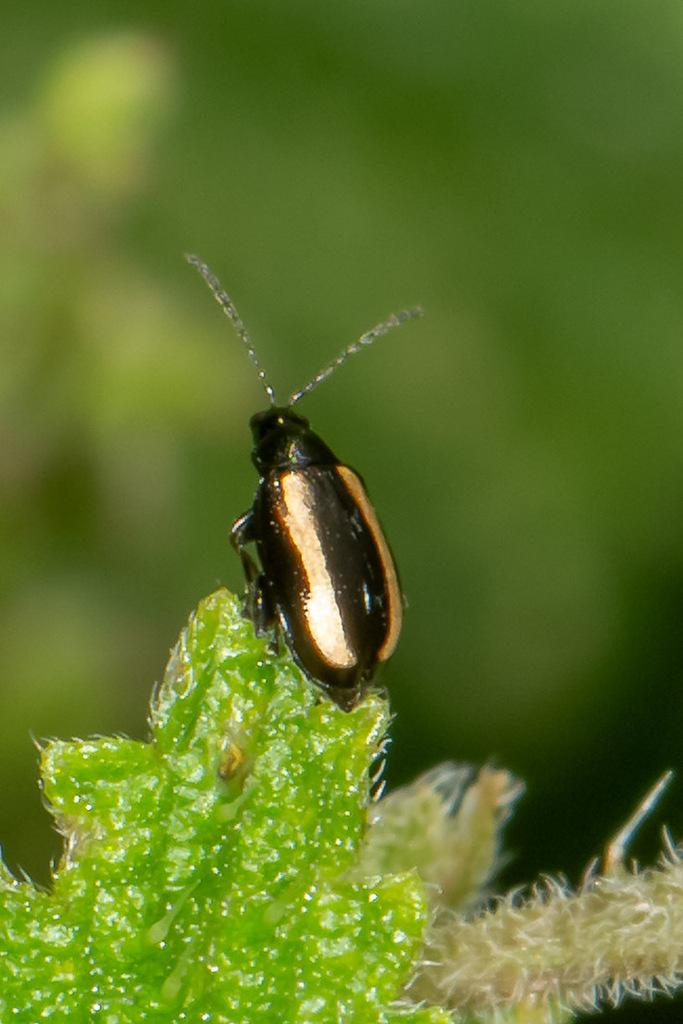flea_beetle: (141, 208, 506, 735)
